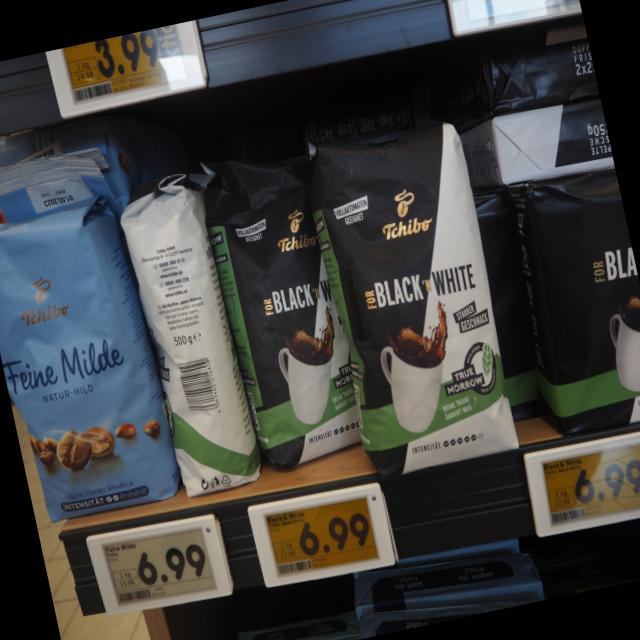BW Bohne: (290, 104, 533, 488), (190, 133, 365, 483), (105, 157, 267, 506)
BW Gemahlen: (507, 160, 640, 449)
FM Bohne: (0, 189, 179, 532)
